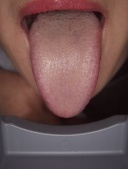tongue: (28, 21, 102, 120)
